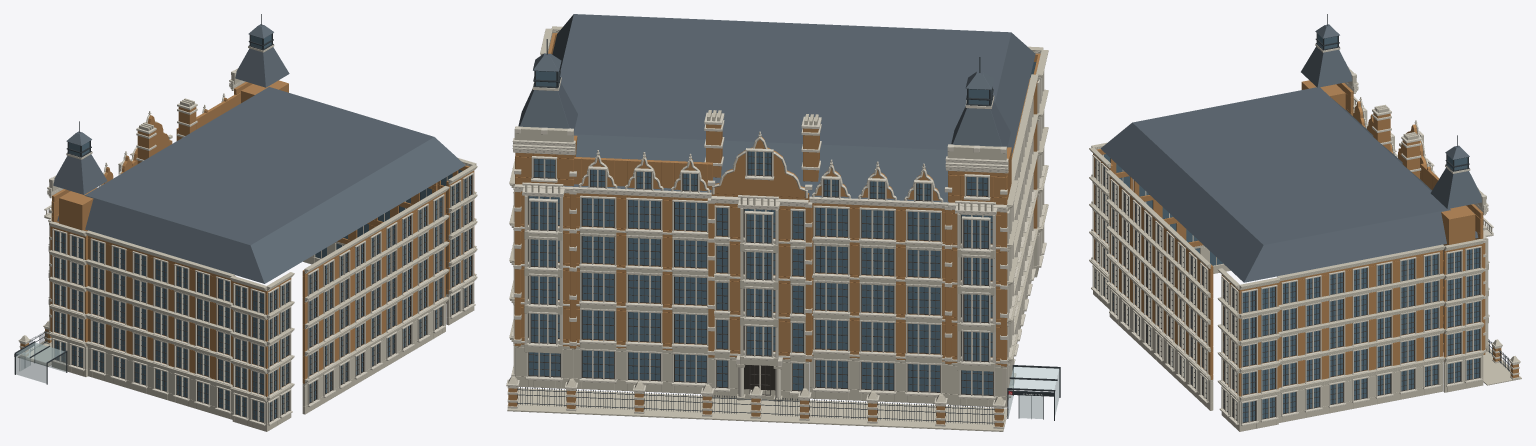
File: sal-exterior-94a714dd0925.glb
3 views of the same model, side by side, from view 1: azimuth 30°, elevation 25°; view 2: azimuth 150°, elevation 25°; view 3: azimuth 270°, elevation 25° (orthographic). The views are drawn at different scales.
Parts seen in each view (by area): view 1: SAL.001; view 2: SAL.001; view 3: SAL.001.
Boxes of the visible parts, x1,y1,x2,y2 form: SAL.001: (14,14,477,431); SAL.001: (506,14,1060,431); SAL.001: (1089,14,1521,431).
Size of the model in its own units: 68.1 by 38.24 by 61.14.
